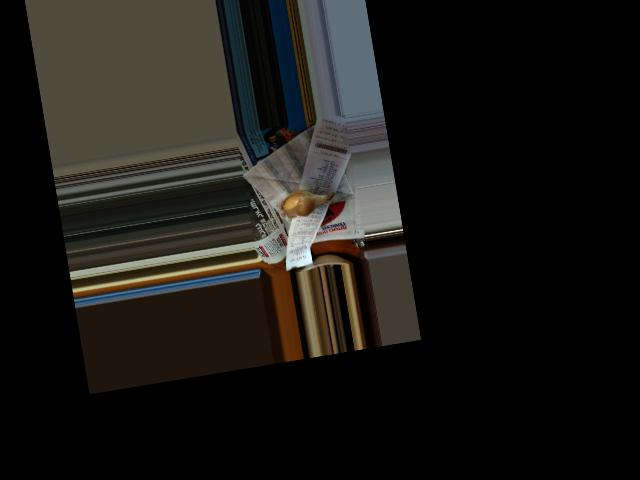onion: (280, 183, 328, 219)
